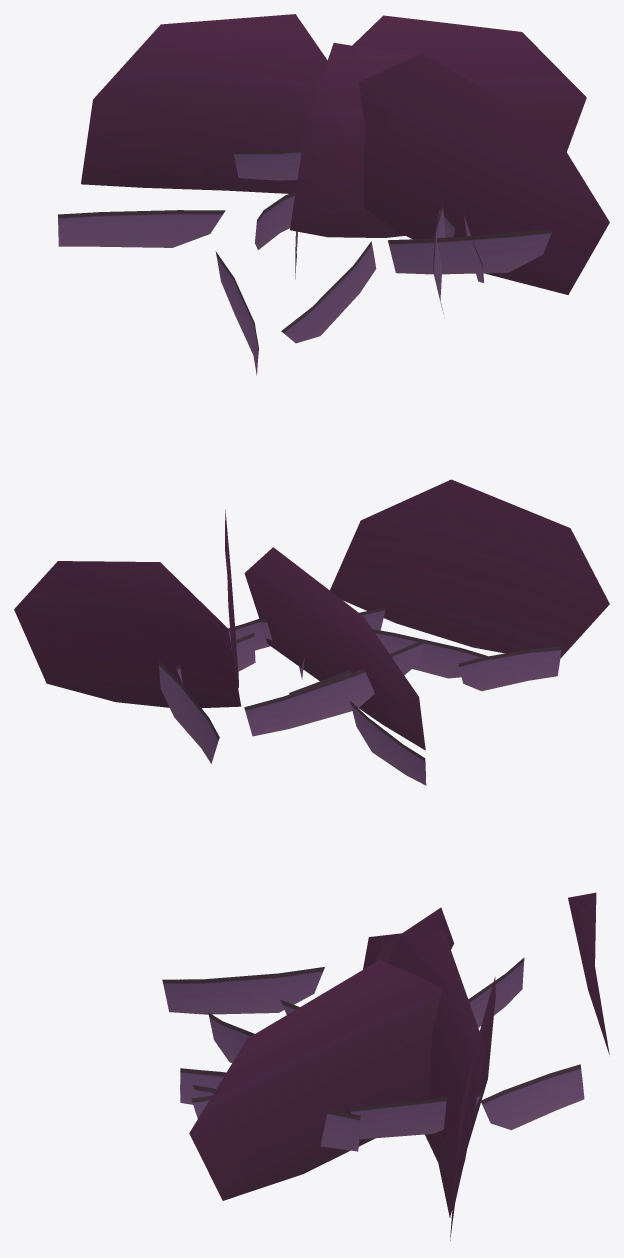
The picture shows the model from 3 angles, top to bottom: view 1: azimuth 30°, elevation 25°; view 2: azimuth 150°, elevation 25°; view 3: azimuth 270°, elevation 25°; orthographic projection. The views are drawn at different scales.
Parts seen in each view (by area): view 1: SM_GF_Gazania_01_LOD0; view 2: SM_GF_Gazania_01_LOD0; view 3: SM_GF_Gazania_01_LOD0.
Part boxes in pixels (box(x1,y1,x2,y2)): SM_GF_Gazania_01_LOD0: box(58, 14, 609, 375); SM_GF_Gazania_01_LOD0: box(14, 479, 609, 785); SM_GF_Gazania_01_LOD0: box(162, 892, 609, 1240).
Size of the model in its own units: 0.7764 by 0.3242 by 0.7432.
